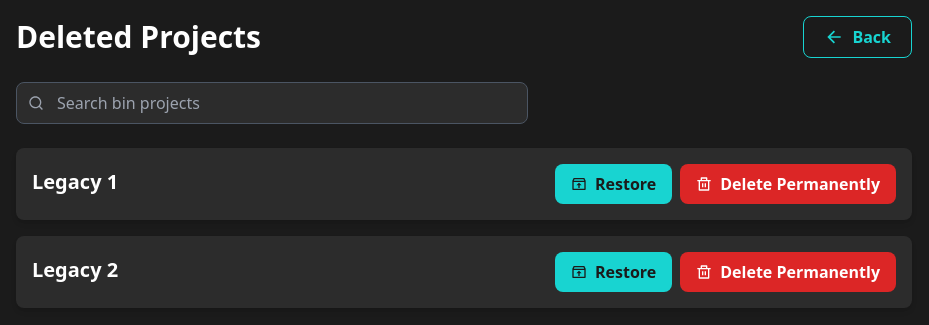
BinPage Component › handles legacy owner fields (createdById, owner)
The width and height of the screenshot is (929, 325).
Expected: the button "Legacy 1" is shown, [32, 168, 118, 196]
Expected: the button "Legacy 2" is shown, [32, 256, 118, 284]
// Search by createdById
Type "legacy_id_1" into the field with placeholder "Search bin projects" at (272, 103), box [16, 82, 528, 124]
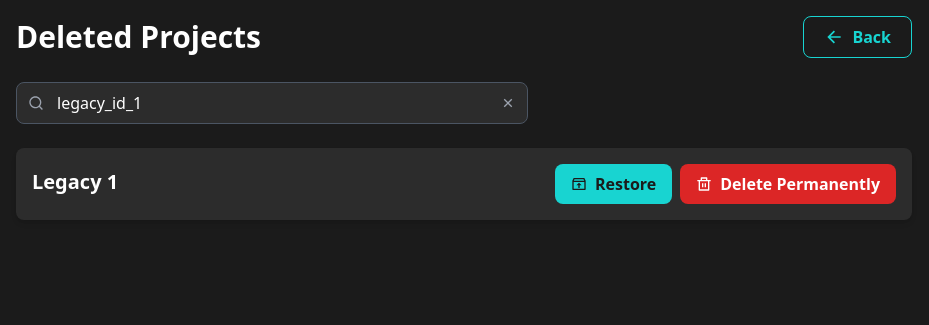
Expected: the button "Legacy 1" is shown, [32, 168, 118, 196]
Expected: the button "Legacy 2" is gone
// Search by owner
Replace the text in the field with placeholder "Search bin projects" with "legacy_owner_2" at (272, 103), box [16, 82, 528, 124]
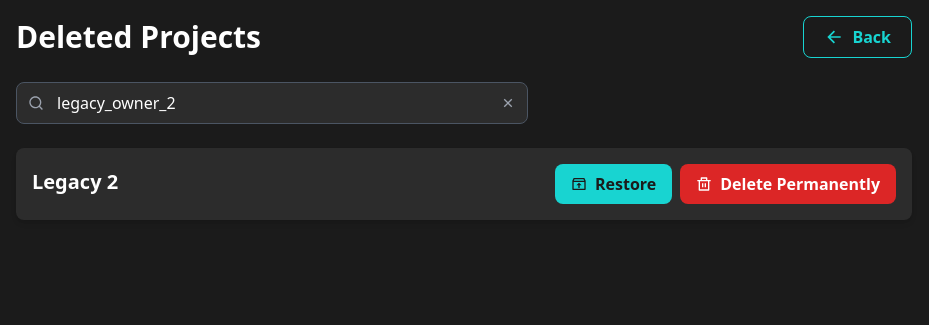
Expected: the button "Legacy 2" is shown, [32, 168, 118, 196]
Expected: the button "Legacy 1" is gone
